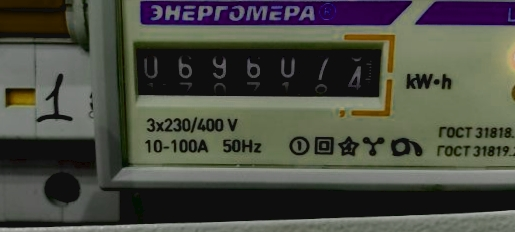0: (141, 50, 161, 79), (278, 50, 297, 78)
4: (345, 63, 364, 91)
6: (245, 50, 263, 78), (176, 51, 194, 78)
7: (312, 51, 332, 81)
9: (209, 52, 228, 80)
screen: (120, 27, 400, 117)
